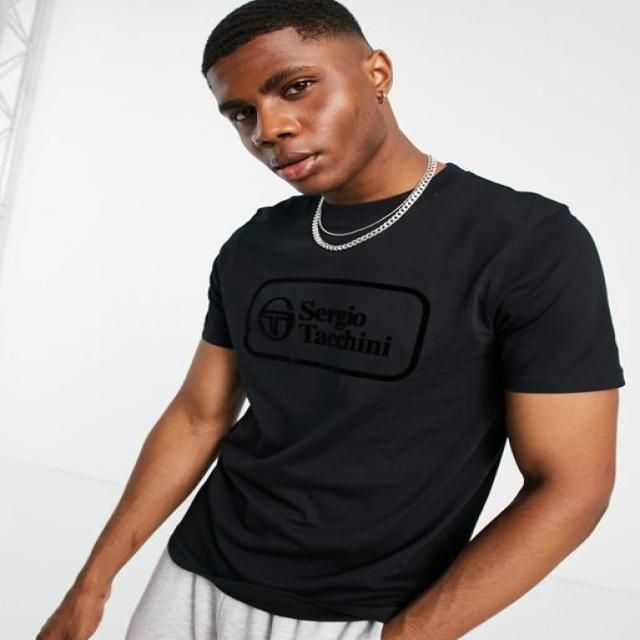tshirt: (165, 163, 621, 622)
